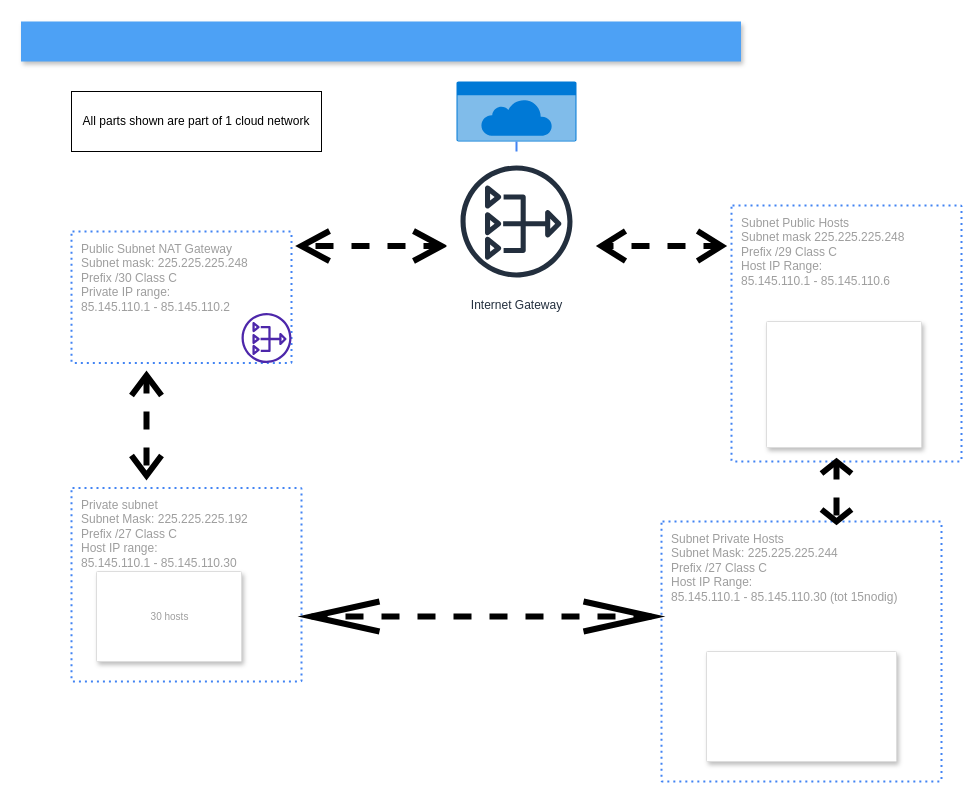
Image size: 980x799. Some labels were removed from this diagram. Here are the shapes that lost their labels. From the top down, the centre of each, then its label:
At point 381,42: "NWT-06 Subnetting".
At point 516,111: "CLoud".
At point 845,385: "5 Hosts".
At point 802,707: "15 hosts".
